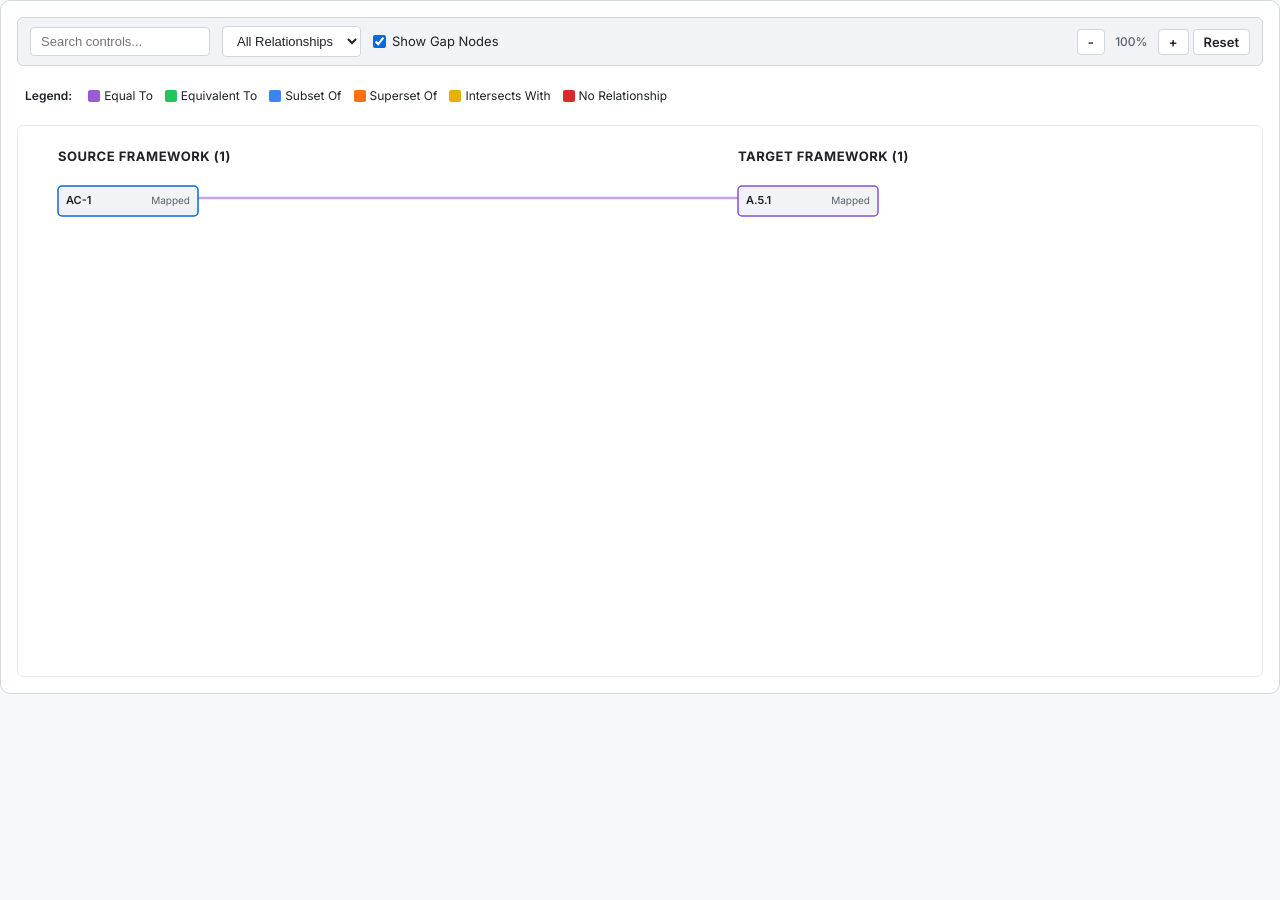
SankeyDiagram Empirical Stress & Performance Test Suite › 3. Zoom Controls and Scaling › updates zoom level indicator and SVG scale when zoom buttons are clicked
This screenshot has width=1280, height=900.
Expected: the text "100%" is shown, x1=1115 y1=34 x2=1148 y2=49
Note: Click Zoom In
Click the button titled "Zoom In" at (1173, 42), box x1=1158 y1=28 x2=1189 y2=54
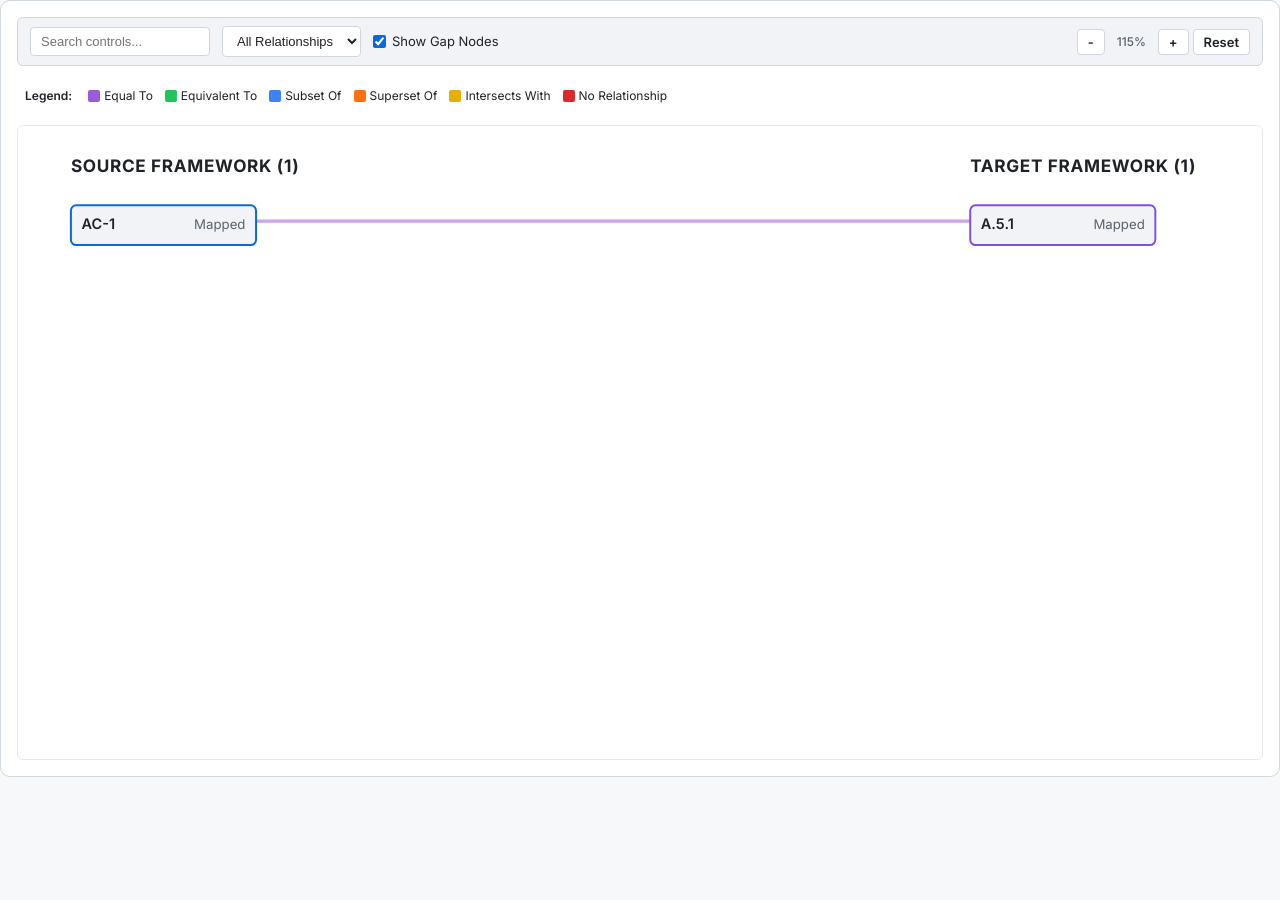
Expected: the text "115%" is shown, x1=1117 y1=34 x2=1146 y2=49
Note: Click Zoom Out twice
Click the button titled "Zoom Out" at (1091, 42), box x1=1077 y1=28 x2=1105 y2=54
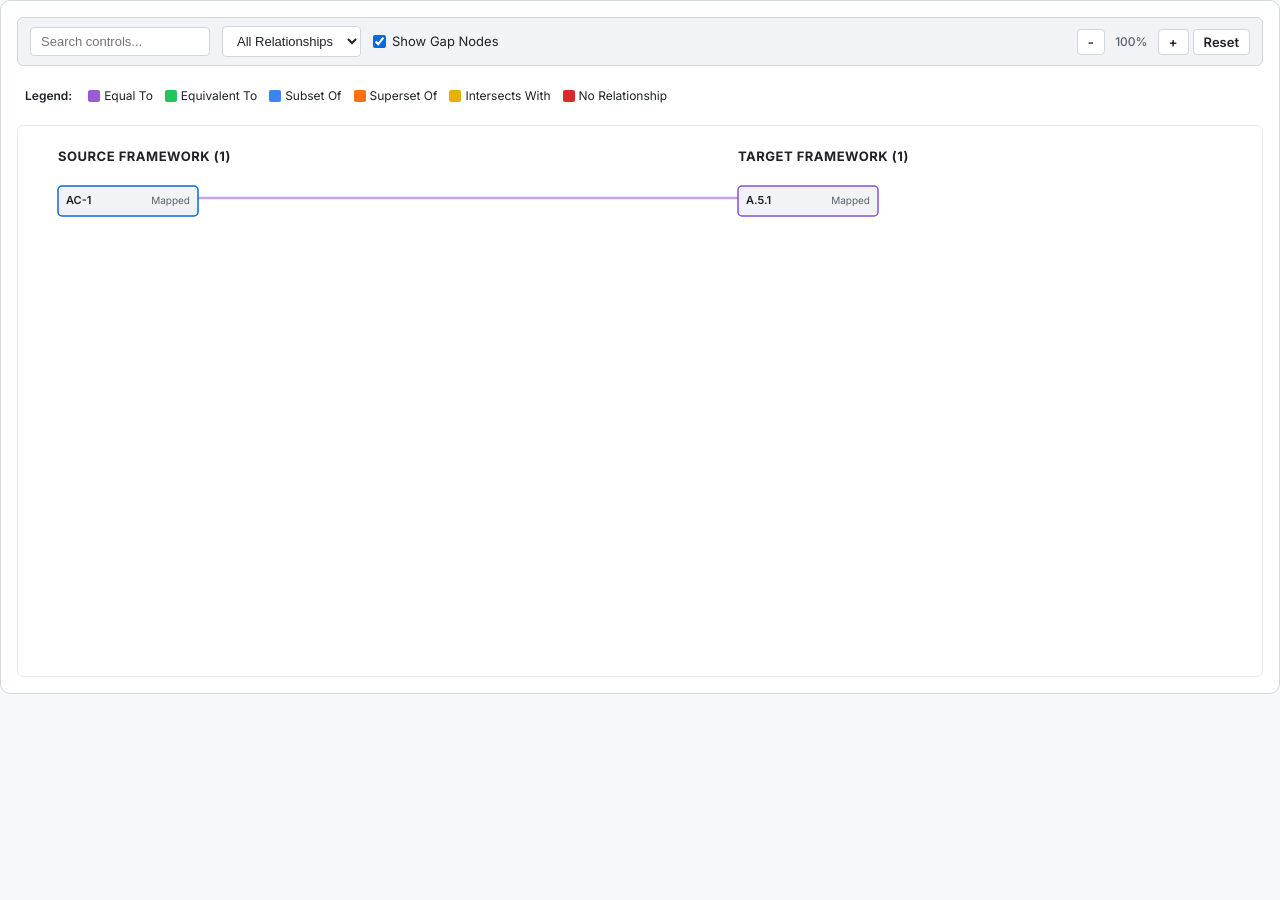
Click the button titled "Zoom Out" at (1091, 42), box x1=1077 y1=28 x2=1105 y2=54
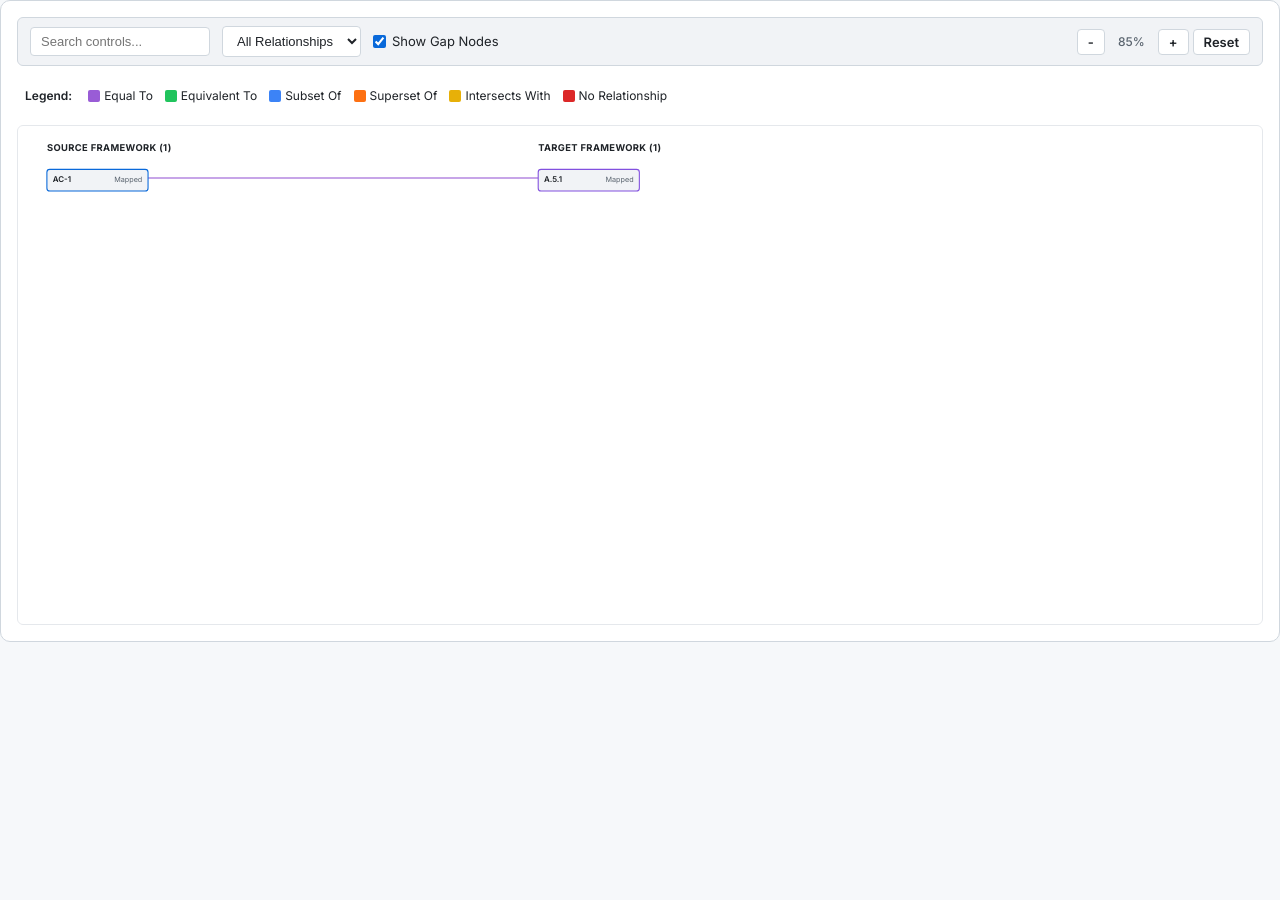
Note: Click Reset
Click the button titled "Reset Zoom" at (1221, 42), box x1=1193 y1=28 x2=1250 y2=54
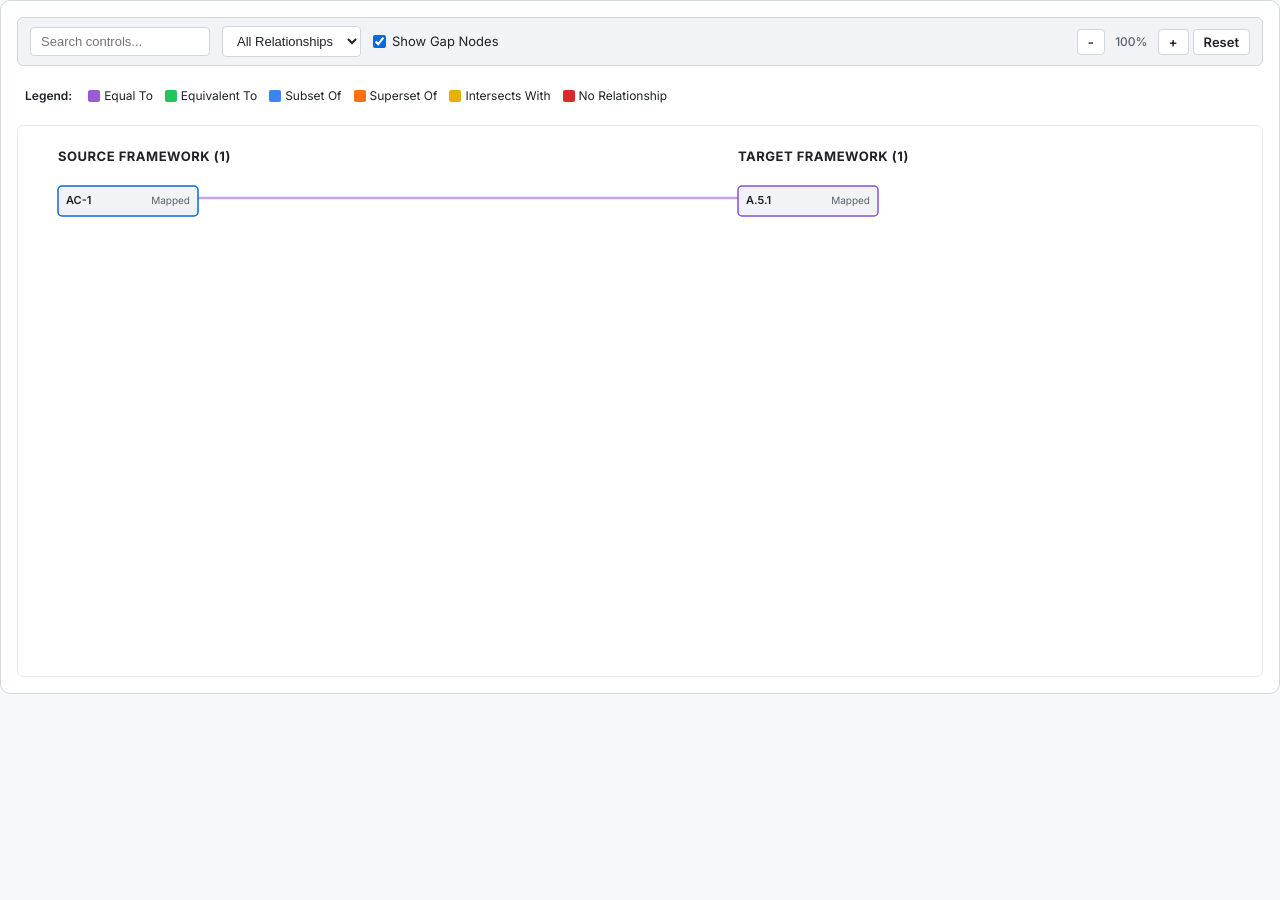
Expected: the text "100%" is shown, x1=1115 y1=34 x2=1148 y2=49
